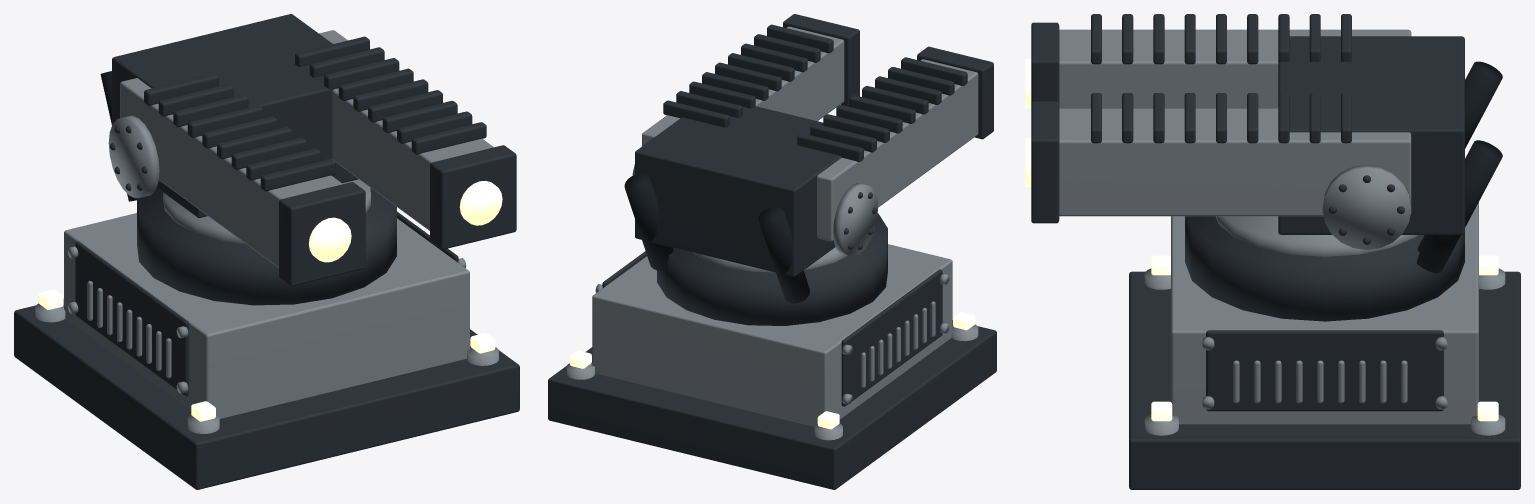
File: ips.glb
3 renders of one model, left to right at view 1: azimuth 30°, elevation 25°; view 2: azimuth 150°, elevation 25°; view 3: azimuth 270°, elevation 25°, orthographic. The views are drawn at different scales.
Parts seen in each view (by area): view 1: head_dark.003, body_dark.035, body_steel.037, head_steel.005, body_dark.036, body_steel.038, head_steel.006, head_warm.001, body_warm.026; view 2: head_dark.003, body_dark.035, body_steel.037, head_steel.005, body_dark.036, head_rubber.001, head_steel.006, body_steel.038, body_warm.026; view 3: body_dark.035, head_steel.005, head_dark.003, body_steel.037, body_dark.036, body_steel.038, head_steel.006, head_rubber.001, body_warm.026, head_warm.001.
Part boxes in pixels (x1=…): head_dark.003: x1=112, y1=14, x2=516, y2=286; body_dark.035: x1=14, y1=211, x2=519, y2=489; body_steel.037: x1=64, y1=213, x2=469, y2=418; head_steel.005: x1=120, y1=30, x2=493, y2=267; body_dark.036: x1=137, y1=187, x2=396, y2=305; body_steel.038: x1=35, y1=179, x2=498, y2=433; head_steel.006: x1=108, y1=115, x2=159, y2=198; head_warm.001: x1=309, y1=180, x2=502, y2=262; body_warm.026: x1=38, y1=289, x2=495, y2=421; head_dark.003: x1=635, y1=14, x2=993, y2=276; body_dark.035: x1=548, y1=251, x2=996, y2=489; body_steel.037: x1=592, y1=244, x2=952, y2=426; head_steel.005: x1=642, y1=26, x2=978, y2=241; body_dark.036: x1=657, y1=213, x2=887, y2=325; head_rubber.001: x1=624, y1=174, x2=809, y2=303; head_steel.006: x1=632, y1=164, x2=877, y2=256; body_steel.038: x1=566, y1=247, x2=978, y2=440; body_warm.026: x1=569, y1=312, x2=975, y2=429; body_dark.035: x1=1129, y1=271, x2=1520, y2=489; head_steel.005: x1=1059, y1=29, x2=1411, y2=216; head_dark.003: x1=1031, y1=14, x2=1464, y2=234; body_steel.037: x1=1171, y1=202, x2=1478, y2=424; body_dark.036: x1=1185, y1=216, x2=1464, y2=321; body_steel.038: x1=1144, y1=216, x2=1505, y2=435; head_steel.006: x1=1322, y1=165, x2=1411, y2=249; head_rubber.001: x1=1416, y1=61, x2=1502, y2=273; body_warm.026: x1=1151, y1=255, x2=1498, y2=421; head_warm.001: x1=1025, y1=59, x2=1031, y2=186.
Size of the model in its own units: 0.86 by 0.7925 by 1.06.
